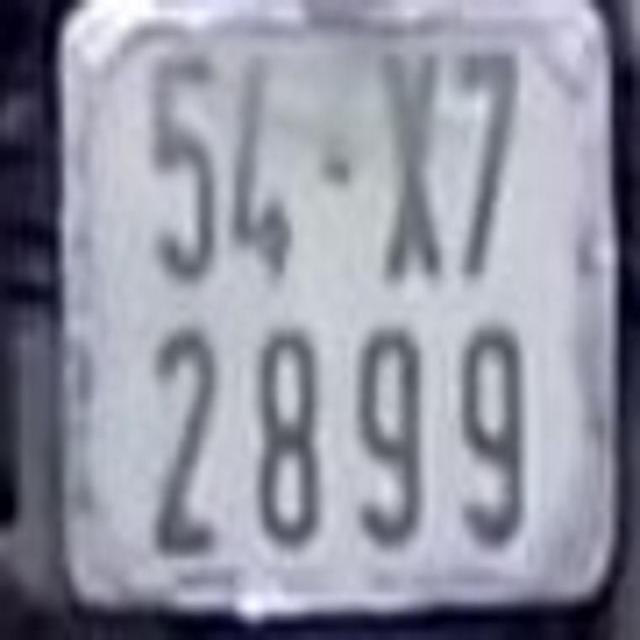2: (144, 320, 221, 559)
4: (228, 48, 299, 282)
5: (139, 48, 221, 282)
7: (452, 48, 522, 282)
8: (248, 320, 325, 552)
9: (451, 312, 533, 547), (349, 319, 427, 547)
X: (368, 42, 444, 284)
